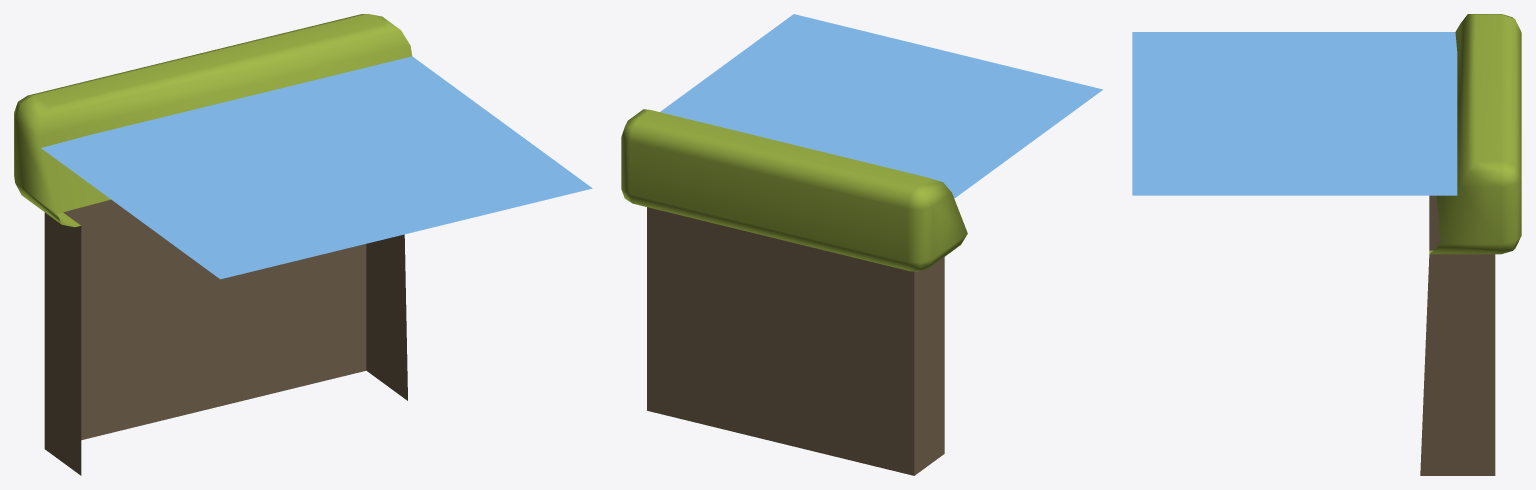
File: Bloco_Rio_Reto.fbx
3 views of the same model, side by side, from view 1: azimuth 30°, elevation 25°; view 2: azimuth 150°, elevation 25°; view 3: azimuth 270°, elevation 25° (orthographic). The views are drawn at different scales.
Parts seen in each view (by area): view 1: Bloco_Rio_Reto5; view 2: Bloco_Rio_Reto5; view 3: Bloco_Rio_Reto5.
Part boxes in pixels (box(x1,y1,x2,y2)): Bloco_Rio_Reto5: box(14, 14, 592, 475); Bloco_Rio_Reto5: box(621, 14, 1102, 475); Bloco_Rio_Reto5: box(1132, 14, 1521, 475).
Size of the model in its own units: 239 by 216 by 240.
